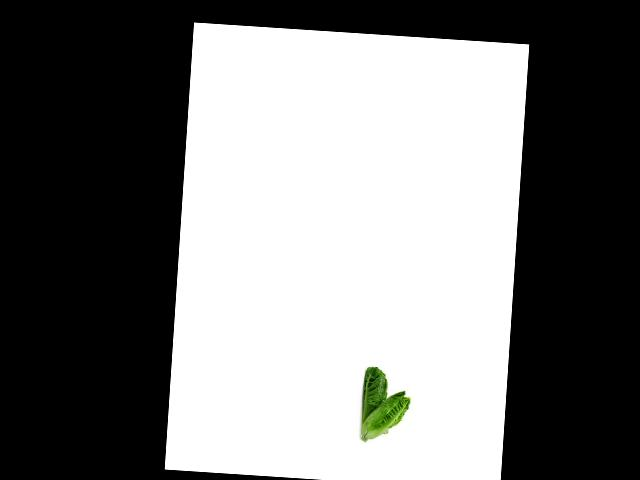lettuce: (356, 361, 390, 427)
